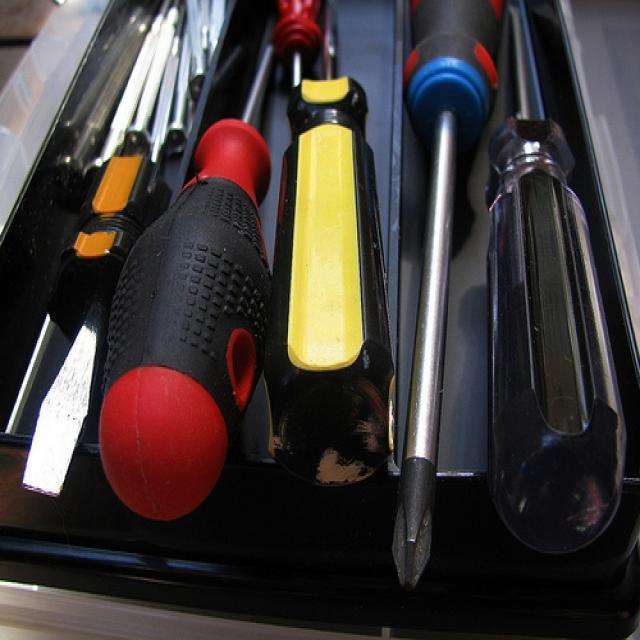screwdriver: (102, 1, 290, 540), (362, 0, 517, 597), (478, 0, 632, 570), (262, 0, 396, 525), (6, 135, 162, 534)
